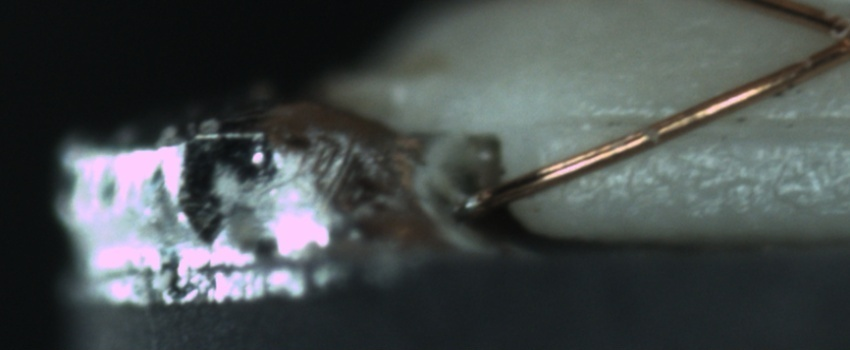CL: (803, 4, 850, 67)
DL: (551, 93, 850, 157)
